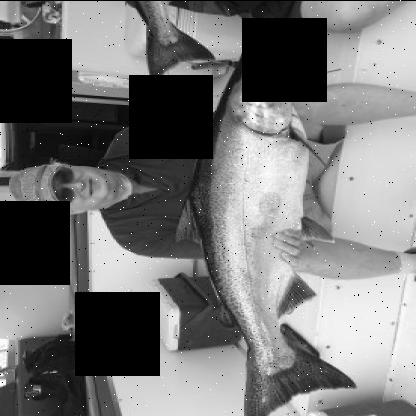fish: (172, 45, 357, 415)
